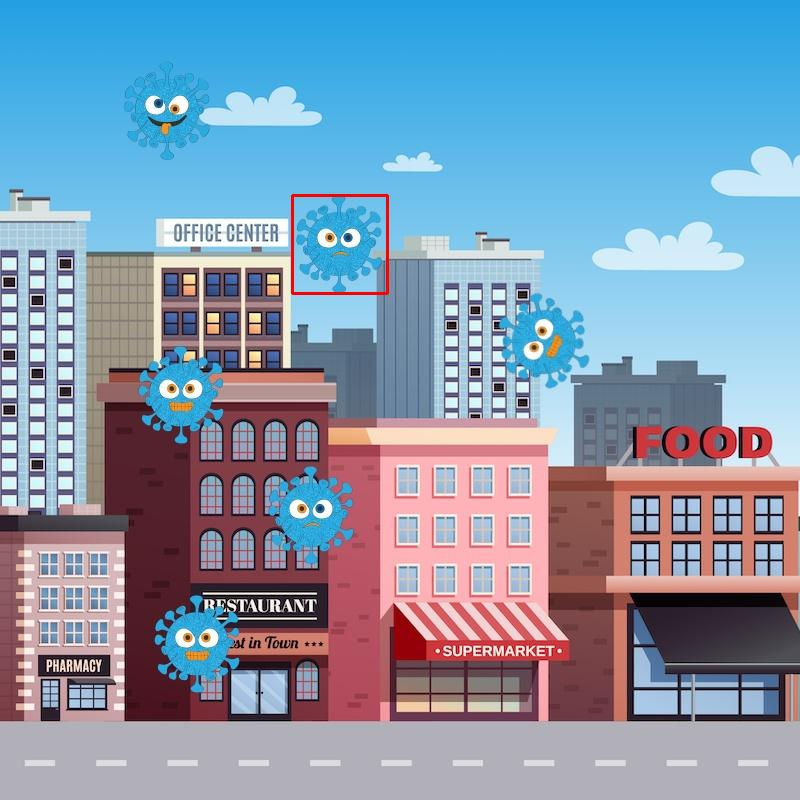corona1: (147, 593, 250, 695), (139, 348, 237, 447), (497, 296, 592, 394)
corona2: (267, 465, 356, 560), (301, 196, 382, 290)
corona3: (127, 63, 215, 164)
